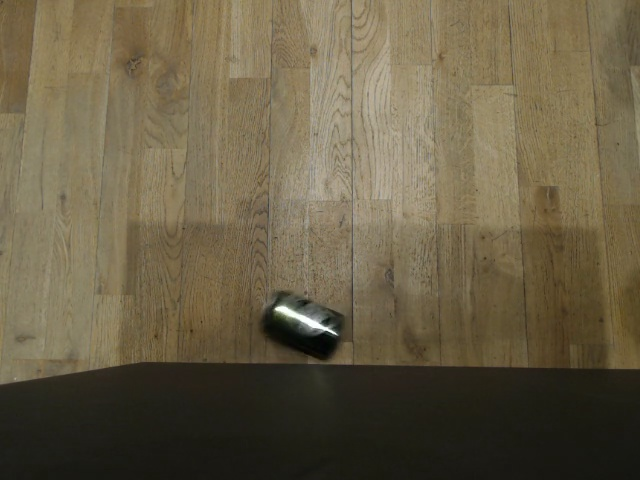beer: (248, 276, 357, 361)
